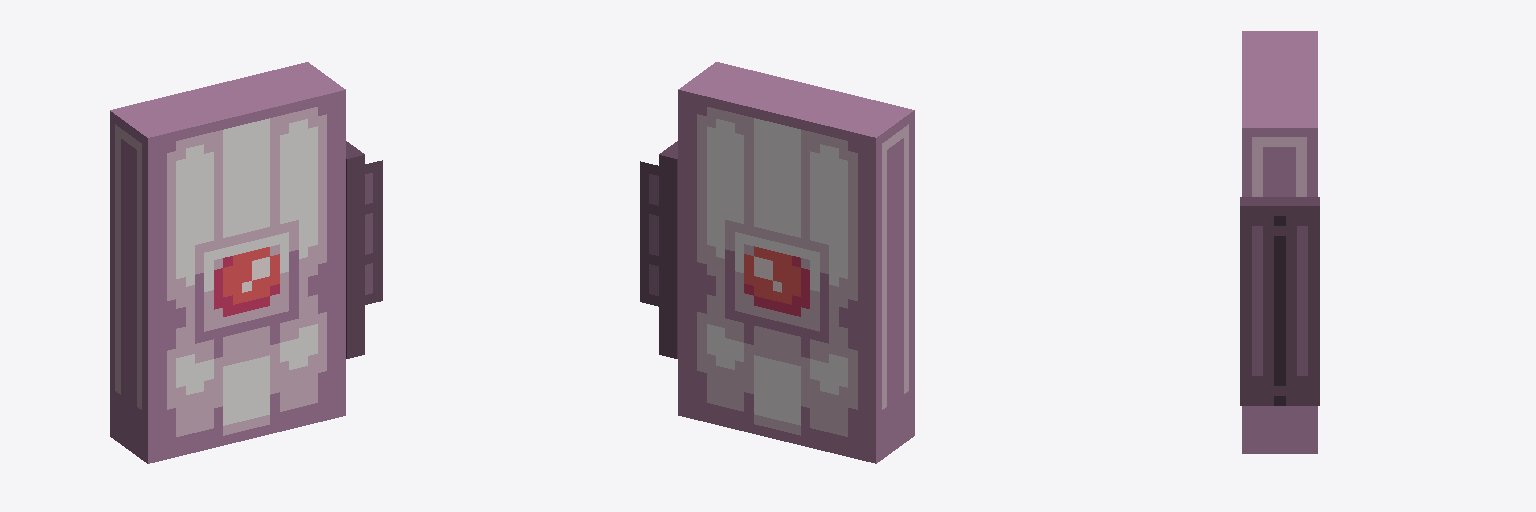
The picture shows the model from 3 angles: view 1: azimuth 30°, elevation 25°; view 2: azimuth 150°, elevation 25°; view 3: azimuth 270°, elevation 25°; orthographic projection.
Visible parts, largest first — view 1: cube, cube.001, cube.002; view 2: cube, cube.001, cube.002; view 3: cube.001, cube.
Part boxes in pixels (x1,y1,x2,y2): cube: (110,62,345,463); cube.001: (346,141,364,358); cube.002: (365,160,382,304); cube: (678,62,914,463); cube.001: (659,141,677,358); cube.002: (640,161,658,306); cube.001: (1240,197,1319,405); cube: (1242,31,1317,453).
Bounding box in the file's own units: 1.69 × 2.06 × 0.4531.
1 materials, 1 textured.